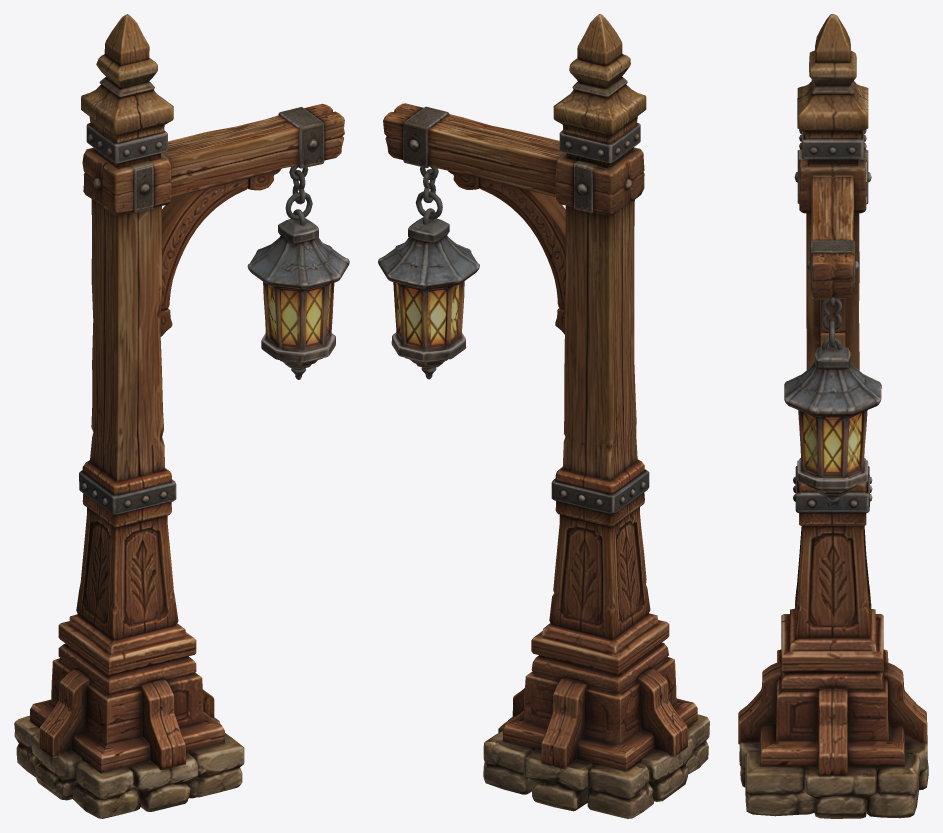
File: lantern_post.glb
3 renders of one model, left to right at view 1: azimuth 30°, elevation 25°; view 2: azimuth 150°, elevation 25°; view 3: azimuth 270°, elevation 25°, orthographic.
Visible parts, largest first — view 1: tripo_706595b6_2014_4a9a_8dd3_cf8384d8c87c; view 2: tripo_706595b6_2014_4a9a_8dd3_cf8384d8c87c; view 3: tripo_706595b6_2014_4a9a_8dd3_cf8384d8c87c.
Part boxes in pixels (x1,y1,x2,y2): tripo_706595b6_2014_4a9a_8dd3_cf8384d8c87c: (14,14,349,818); tripo_706595b6_2014_4a9a_8dd3_cf8384d8c87c: (378,14,709,818); tripo_706595b6_2014_4a9a_8dd3_cf8384d8c87c: (738,14,928,818).
Bounding box in the file's own units: 0.4058 × 0.9995 × 0.2251.
1 material, 1 textured.
